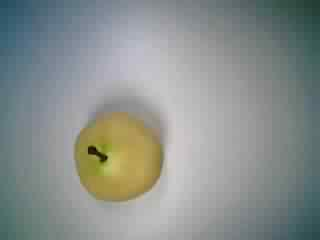pear: (64, 100, 169, 213)
